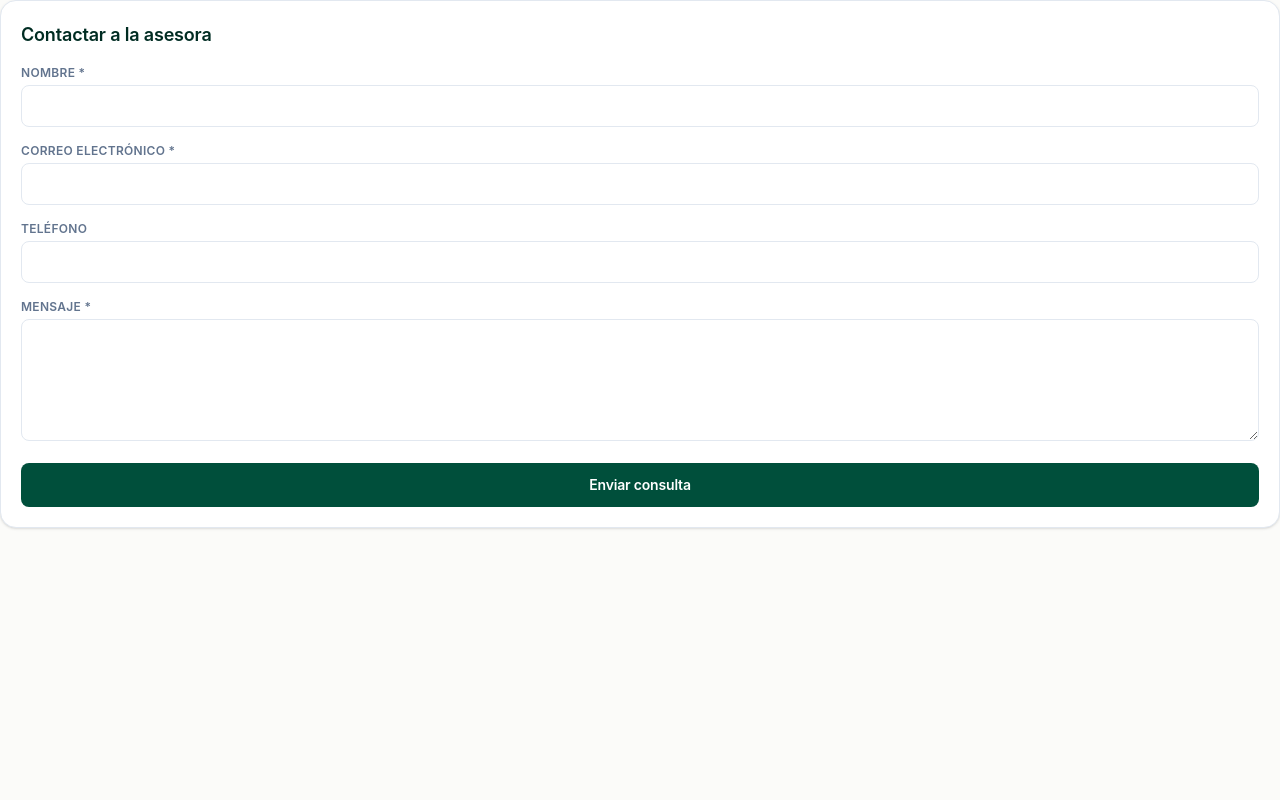
it: ContactForm › posts the lead, disables the button while pending, then shows success and clears
Type "Ana" into the field labelled "Nombre *" at (640, 106), box [21,85,1259,127]
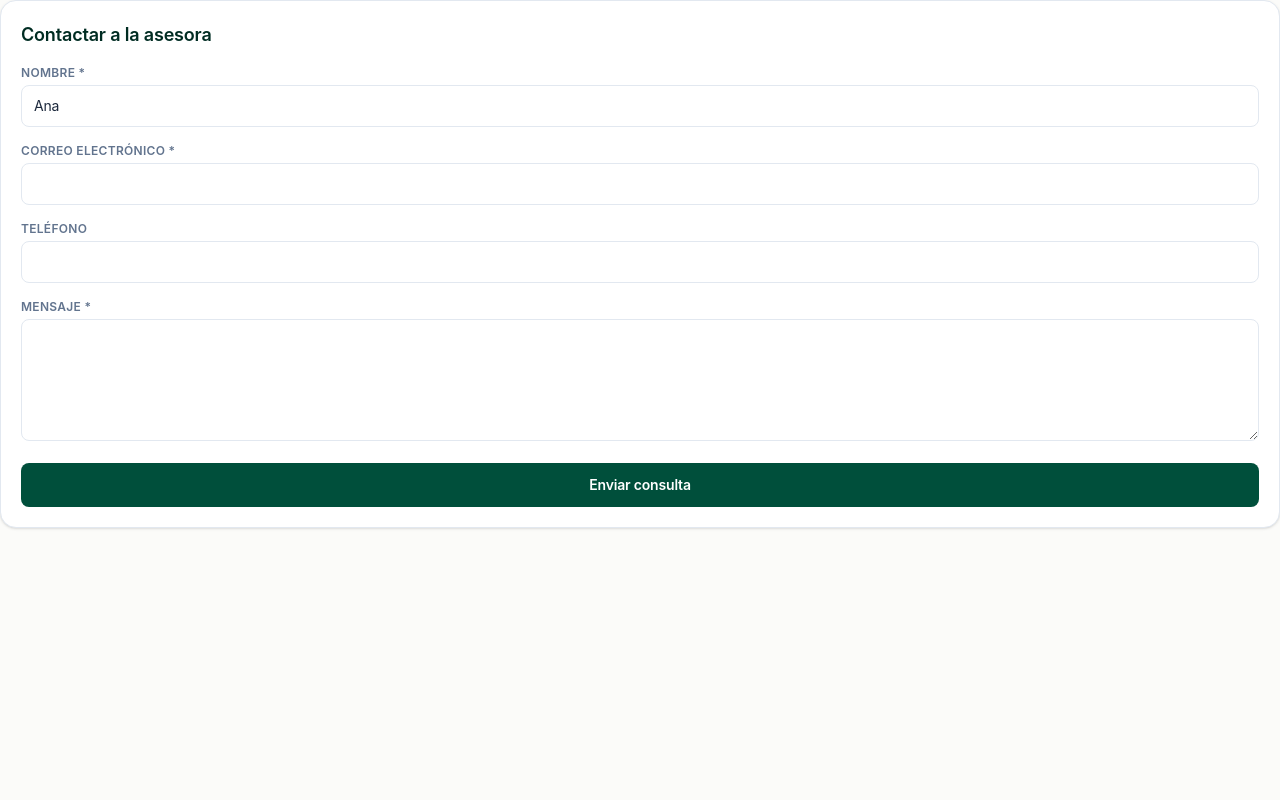
Type "ana@example.com" into the field labelled "Correo electrónico *" at (640, 184), box [21,163,1259,205]
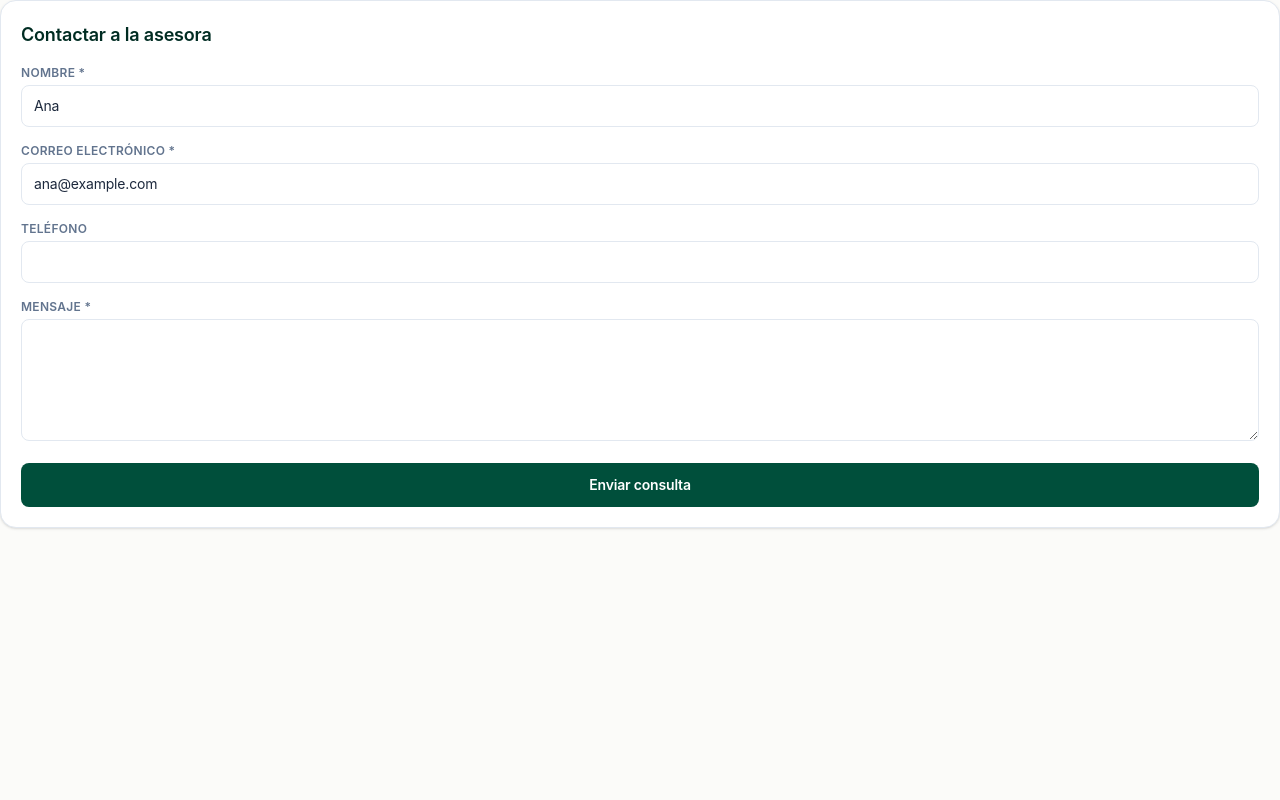
Type "300 123 4567" into the field labelled "Teléfono" at (640, 262), box [21,241,1259,283]
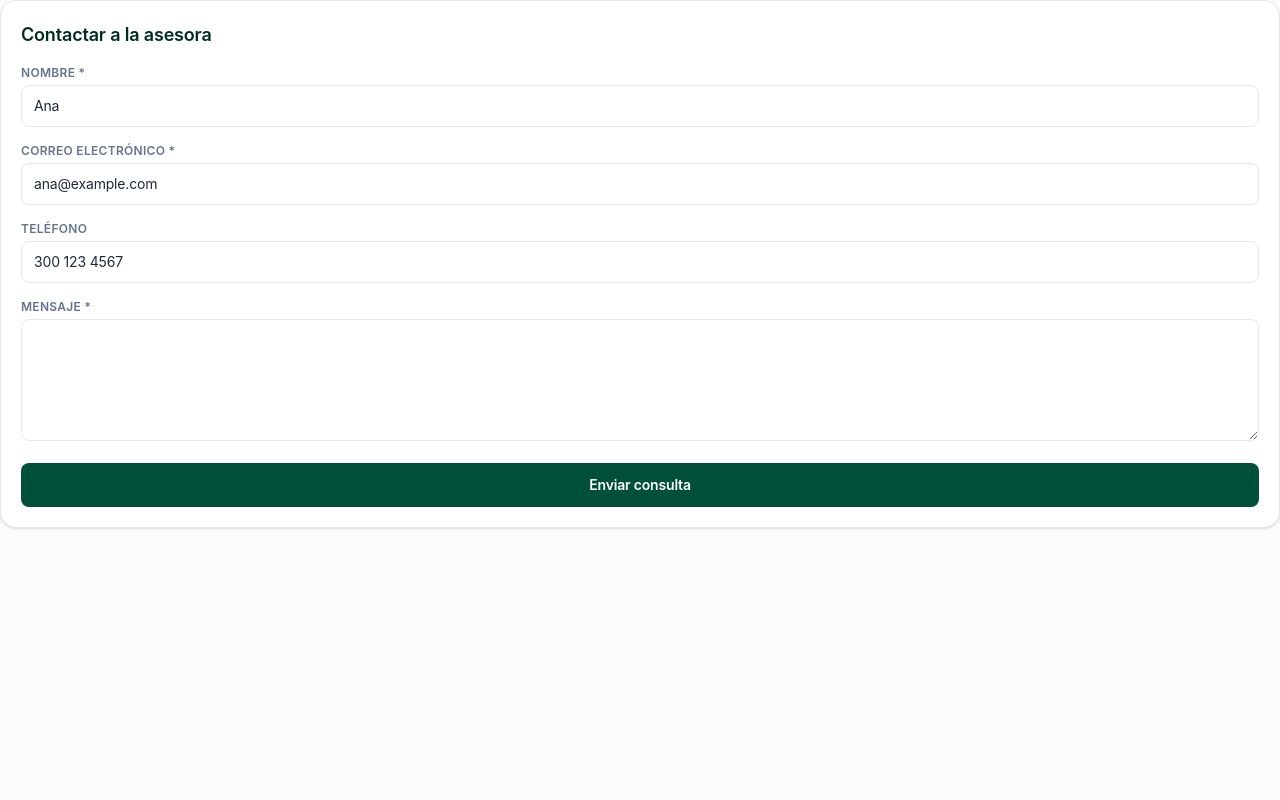
Type "Hola" into the text box labelled "Mensaje *" at (640, 380), box [21,319,1259,441]
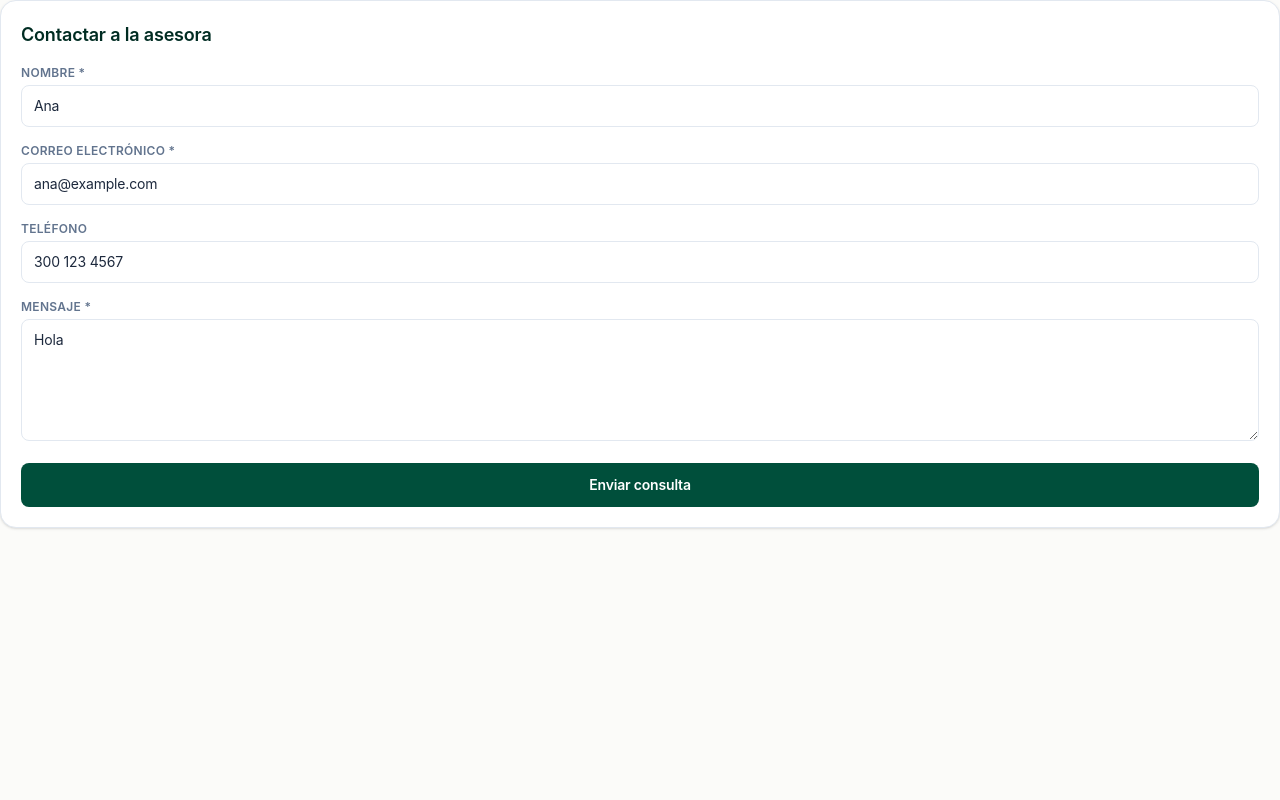
Click the button "Enviar consulta" at (640, 485), box [21,463,1259,507]
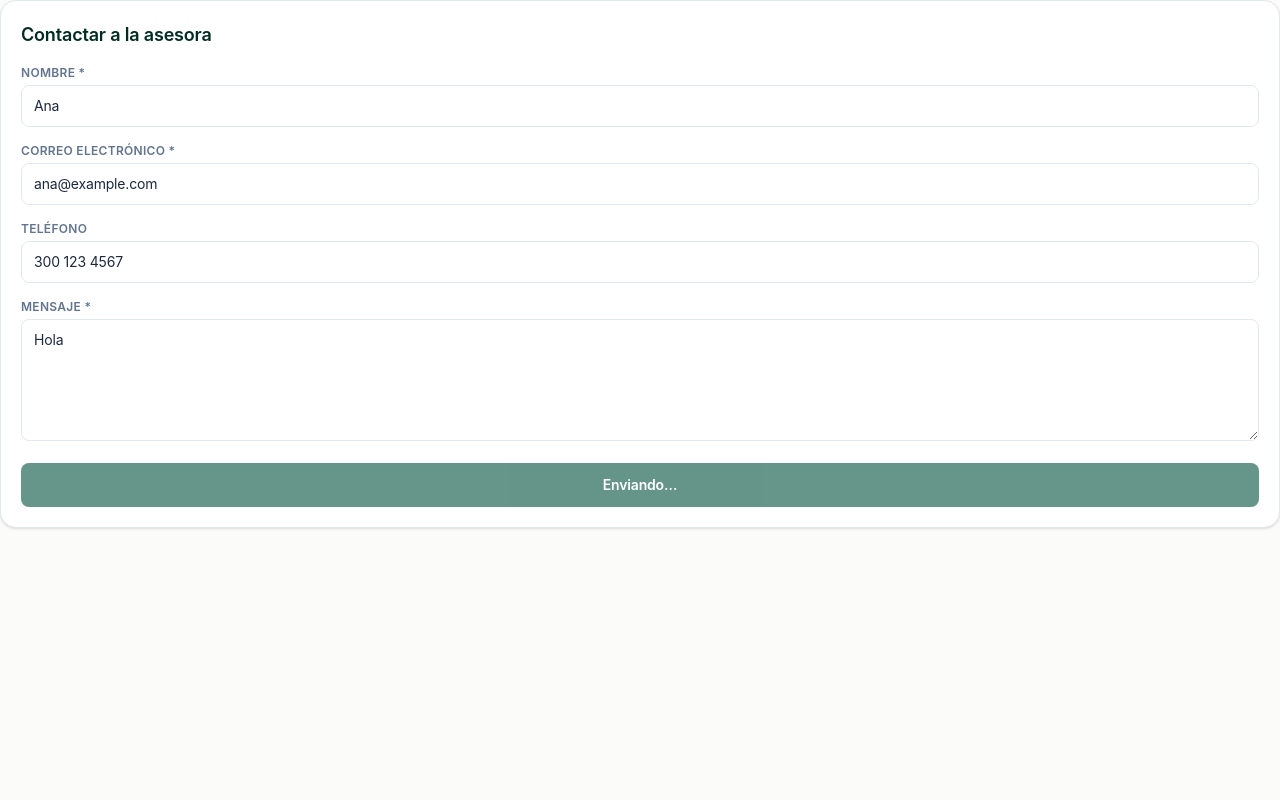
Now the button "Enviando…" is disabled, box [21,463,1259,507]
Submit the form named "Enviando…"
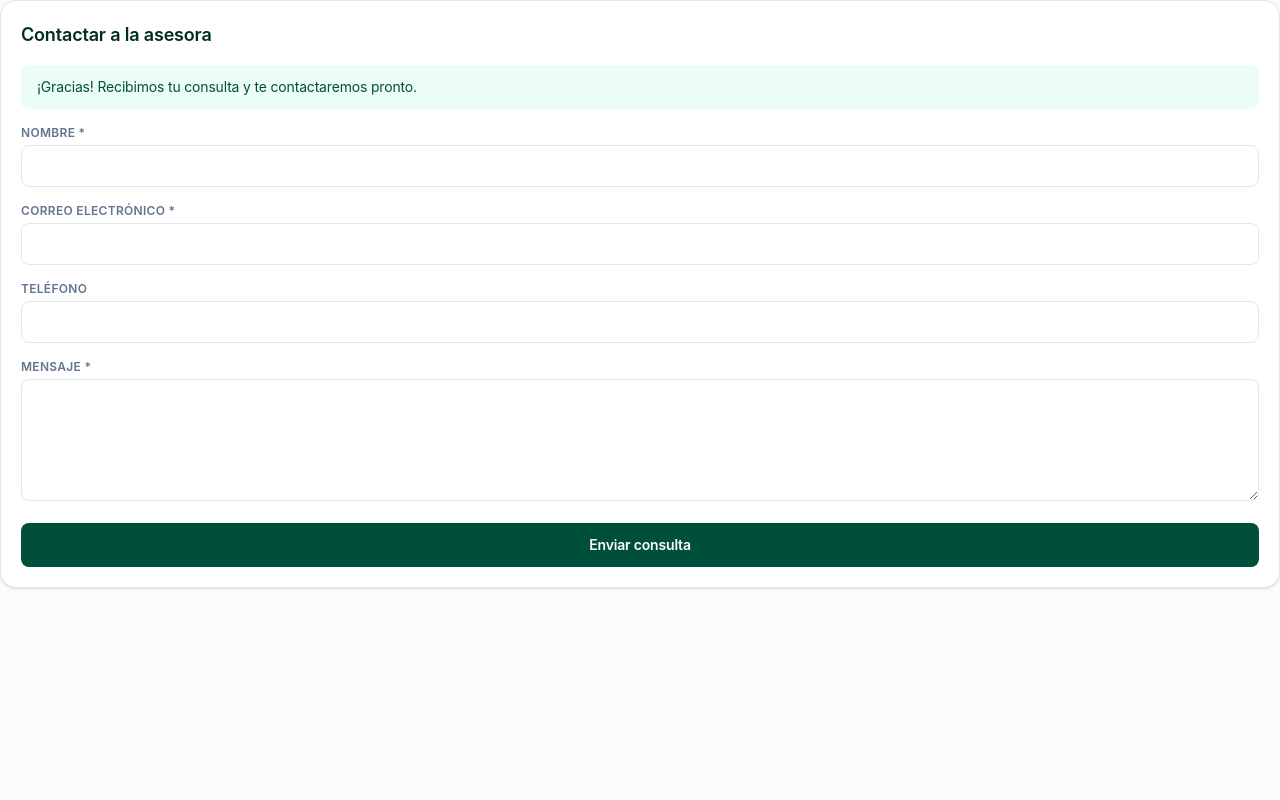
Now the message "¡Gracias! Recibimos tu consulta y te contactaremos pronto." is shown, box [21,65,1259,109]
Now the field labelled "Nombre *" is empty, box [21,145,1259,187]
